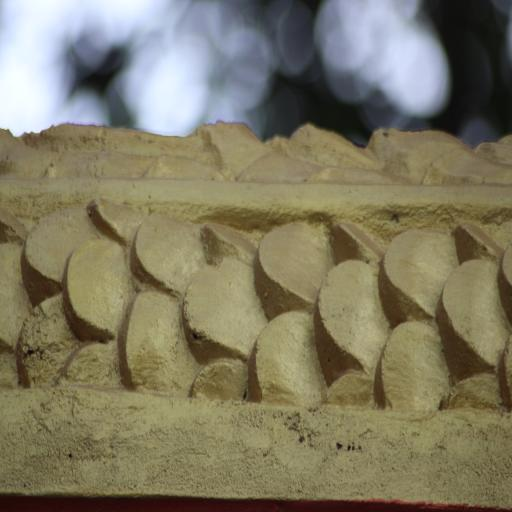la: (6, 218, 192, 401), (200, 220, 358, 421), (363, 203, 512, 415)
